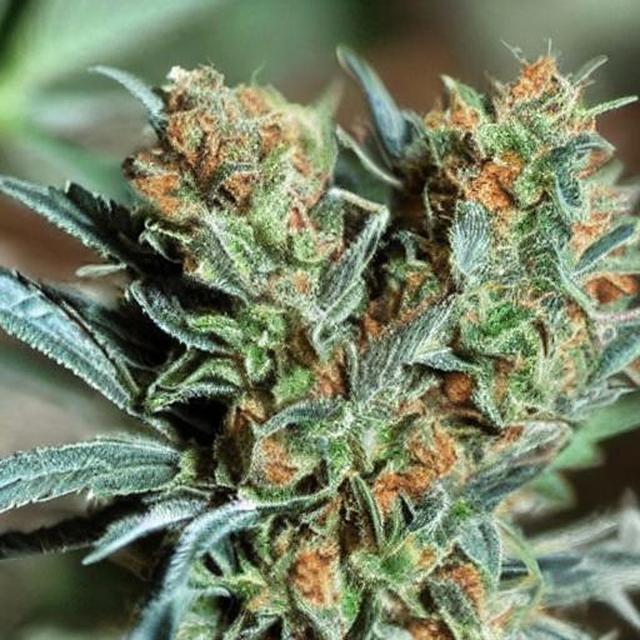Marijuana Plant: (41, 49, 629, 596)
